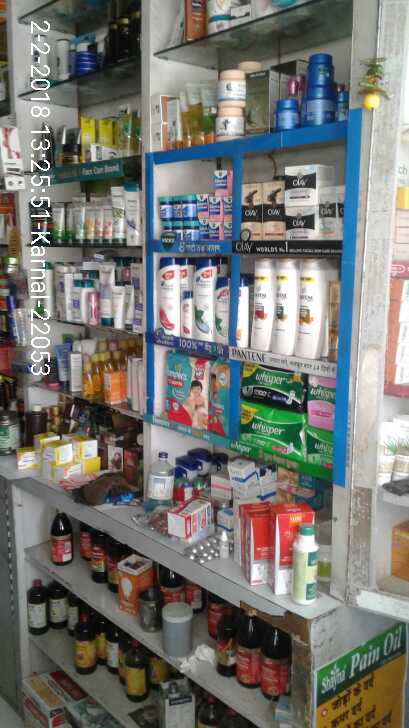beauty: (298, 260, 327, 356), (185, 260, 218, 340), (272, 258, 295, 357), (248, 260, 273, 349), (153, 257, 183, 331), (284, 163, 316, 208), (261, 184, 288, 236), (284, 208, 320, 243), (243, 186, 261, 249), (203, 217, 234, 244), (195, 198, 229, 219), (212, 167, 234, 196), (171, 193, 194, 218), (155, 193, 170, 222), (180, 221, 200, 241)
pharmacy: (159, 347, 210, 433), (234, 399, 300, 463), (241, 366, 309, 404), (307, 376, 334, 428), (304, 424, 332, 464)
